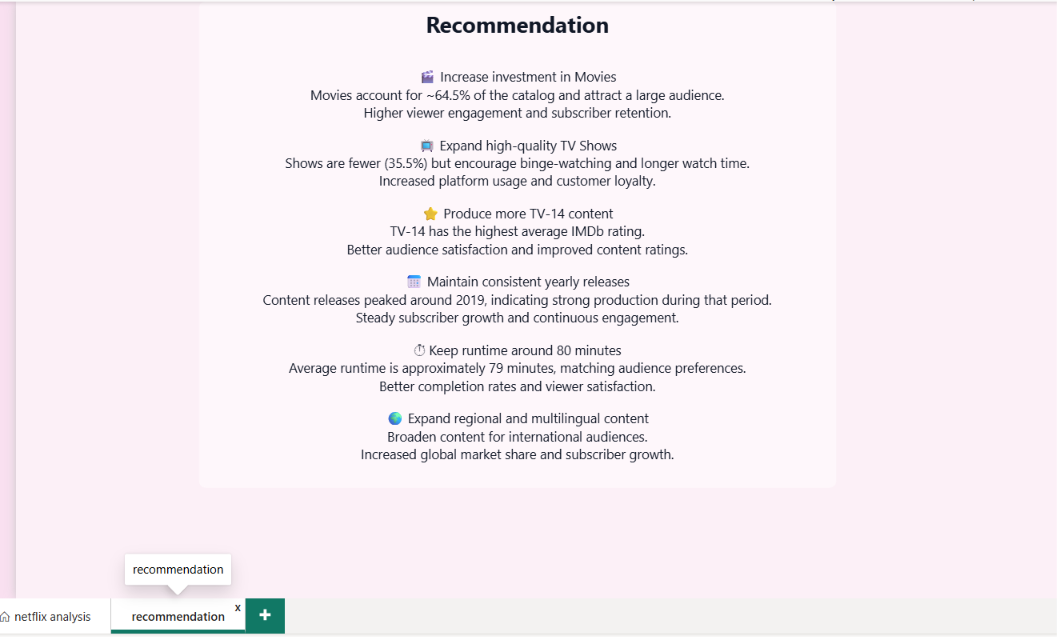

The page's visual inventory and layout, read from the dashboard file:
{"tool":"powerbi","page":{"name":"recommendation","canvas":[1280,720],"ordinal":1},"visuals":[{"type":"textbox","box":[220.8,0,768.5,586.3],"z":0}]}

Visuals, with their boxes on the page's 1280x720 design canvas (x1, y1, x2, y2). These are canvas units, not pixel positions in the 1057x637 screenshot, which may show the page scaled, cropped or inside an application window:
textbox: bbox=[221, 0, 989, 586]
